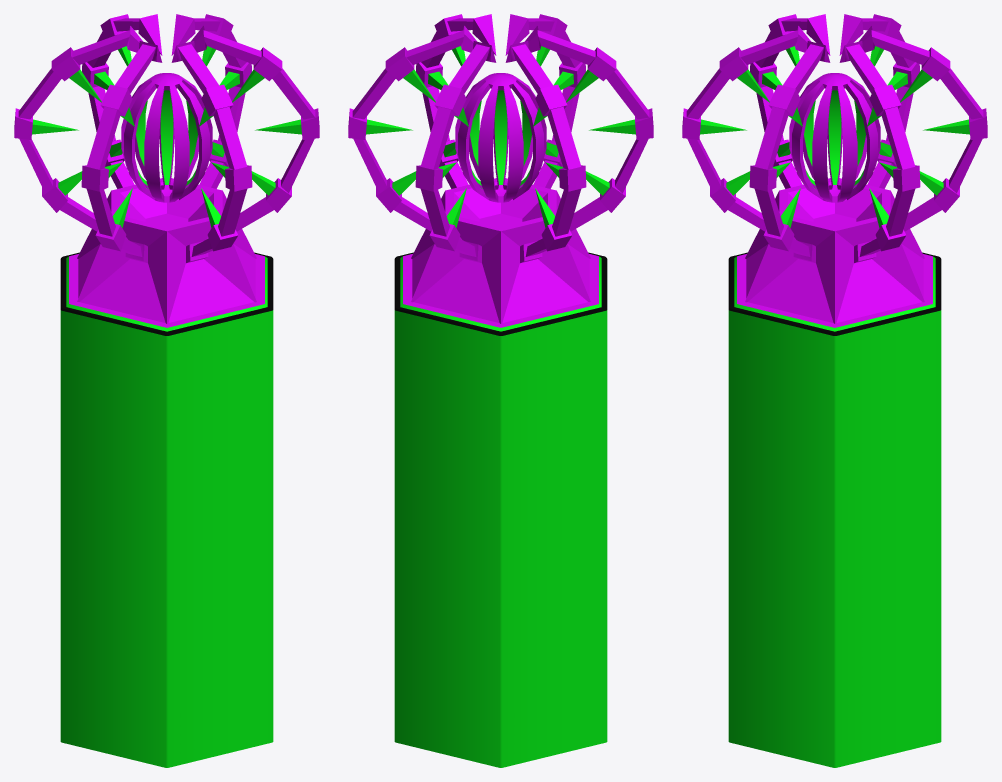
File: WeaponPod.FBX
3 views of the same model, side by side, from view 1: azimuth 30°, elevation 25°; view 2: azimuth 150°, elevation 25°; view 3: azimuth 270°, elevation 25° (orthographic).
Visible parts, largest first — view 1: Object135, Cylinder014, Object137; view 2: Object135, Cylinder014, Object137; view 3: Object135, Cylinder014, Object137.
Part boxes in pixels (<box>): Object135: <box>60,252,273,767</box>; Cylinder014: <box>14,14,319,323</box>; Object137: <box>121,73,212,202</box>; Object135: <box>394,252,607,767</box>; Cylinder014: <box>348,14,653,323</box>; Object137: <box>455,73,546,202</box>; Object135: <box>728,252,941,767</box>; Cylinder014: <box>682,14,987,323</box>; Object137: <box>789,73,880,202</box>.
Bounding box in the file's own units: 281 × 313 × 775.
